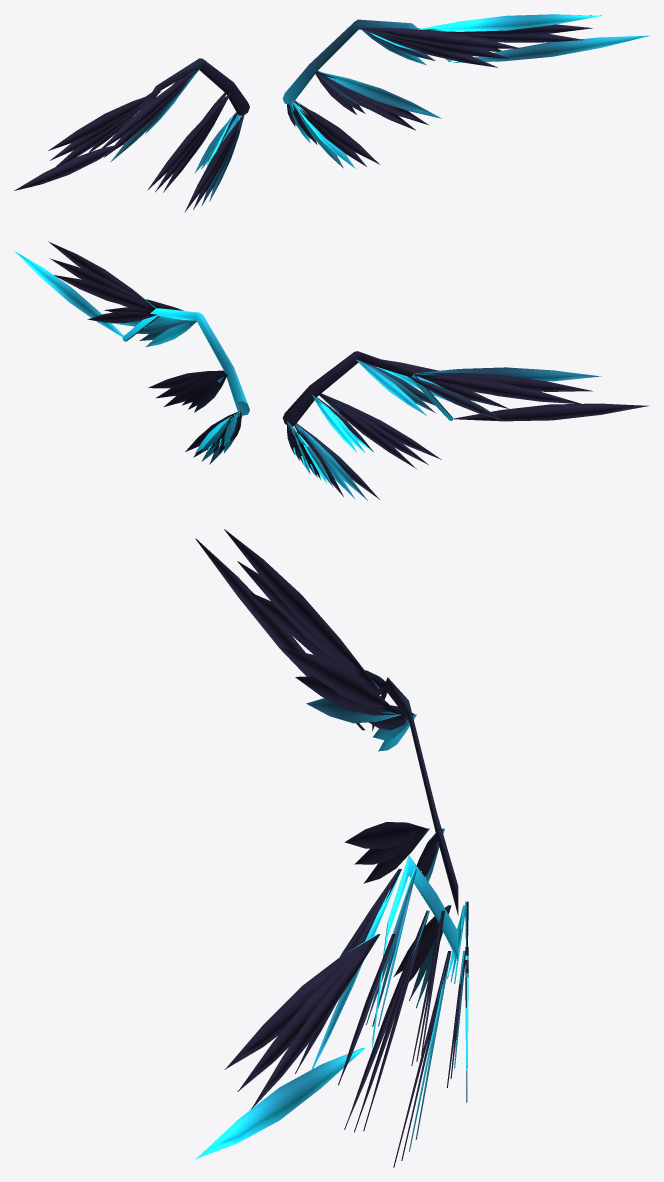
The model's file is aion2_ethereal_wings_LOD0.glb.
3 views of the same model, one above another, from view 1: azimuth 30°, elevation 25°; view 2: azimuth 150°, elevation 25°; view 3: azimuth 270°, elevation 25° (orthographic). The views are drawn at different scales.
Visible parts, largest first — view 1: aion2_ethereal_wings_LOD0; view 2: aion2_ethereal_wings_LOD0; view 3: aion2_ethereal_wings_LOD0.
Part boxes in pixels (x1,y1,x2,y2): aion2_ethereal_wings_LOD0: (14,14,649,212); aion2_ethereal_wings_LOD0: (14,241,649,500); aion2_ethereal_wings_LOD0: (195,529,468,1167).
Bounding box in the file's own units: 6.83 × 1.53 × 1.27.
Materials: 1 (1 with a texture image).
